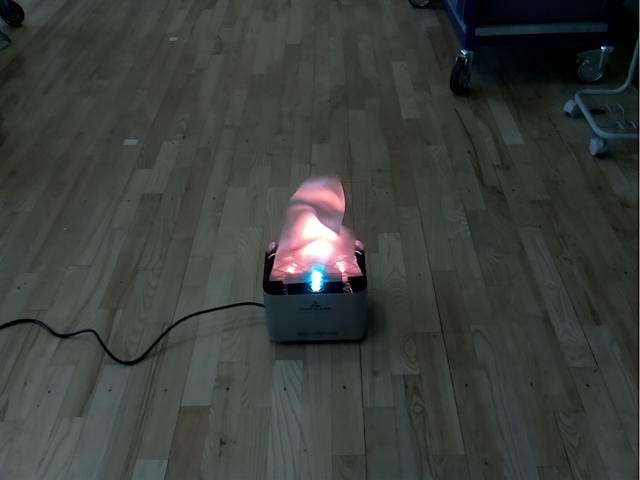fire: (267, 174, 363, 282)
